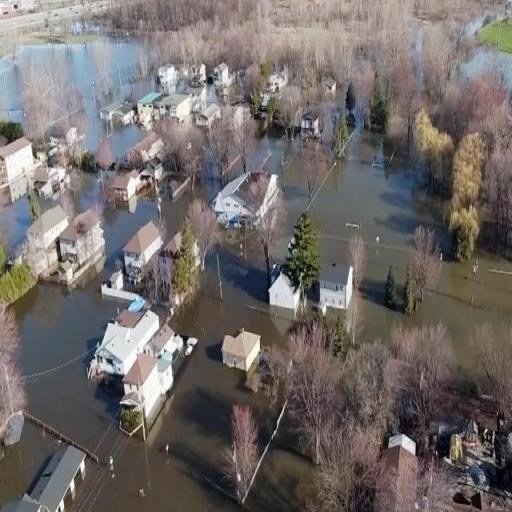flood: (14, 185, 320, 512), (311, 129, 512, 369), (2, 39, 154, 151), (254, 137, 310, 259), (0, 423, 58, 505), (464, 49, 512, 88), (72, 172, 103, 211), (112, 126, 144, 159), (8, 198, 25, 232)
house: (88, 299, 174, 435), (8, 444, 89, 510), (213, 164, 282, 238), (27, 202, 71, 276), (124, 218, 162, 288), (1, 134, 34, 210), (318, 255, 356, 313), (222, 326, 261, 372), (108, 164, 142, 212), (126, 130, 164, 172), (268, 266, 303, 311), (139, 92, 190, 120), (396, 388, 420, 429), (386, 430, 417, 457), (100, 102, 122, 121), (214, 63, 229, 85), (157, 62, 175, 80), (323, 78, 338, 92)
